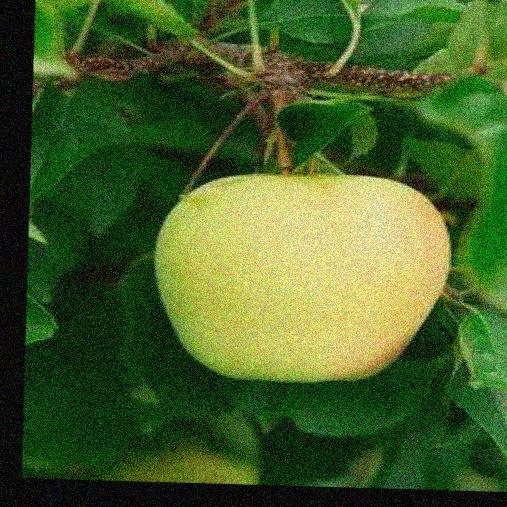green apple: (148, 169, 454, 383)
